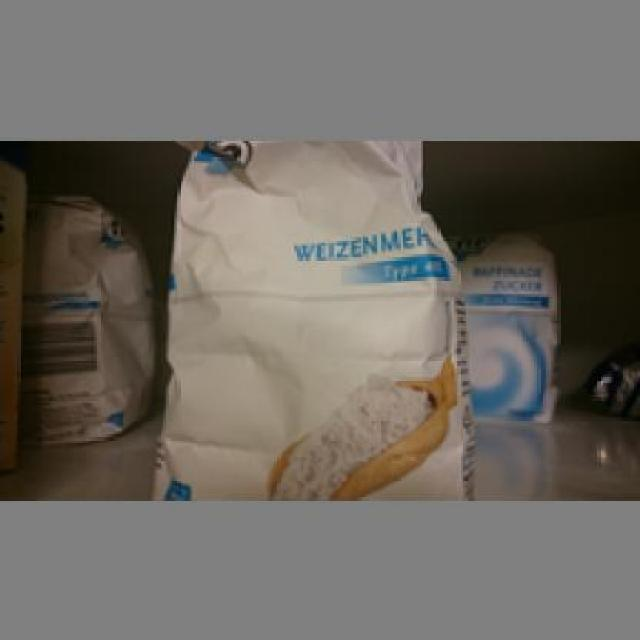Flour: (154, 137, 474, 500), (22, 185, 155, 448), (443, 225, 560, 426)
